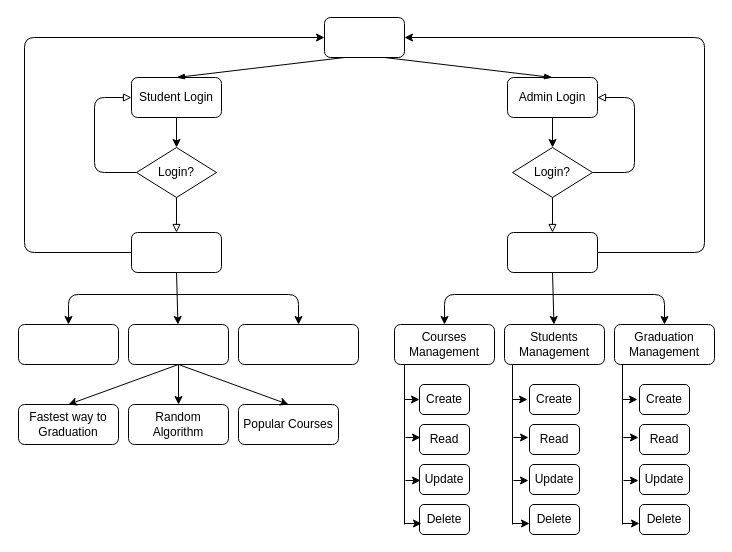
Some shapes in this 732 by 552 pixel diagram are drawn without their labels. Here are the shapes that lost their labels. From the top down, the box of each, then its label:
(324, 16, 404, 58): MAIN
(130, 232, 222, 272): Student Main
(506, 232, 598, 272): Admin Main
(18, 324, 118, 364): Major Course Recommendation
(128, 324, 228, 364): Liberal Arts Recommendation
(238, 324, 358, 364): Grad_Requirements Achievement
